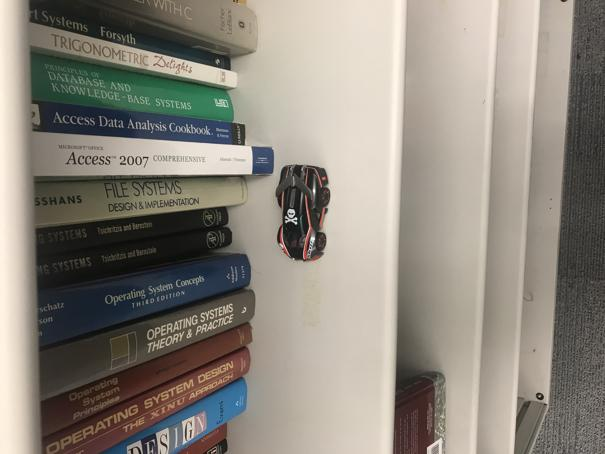Skull: (276, 165, 331, 262)
